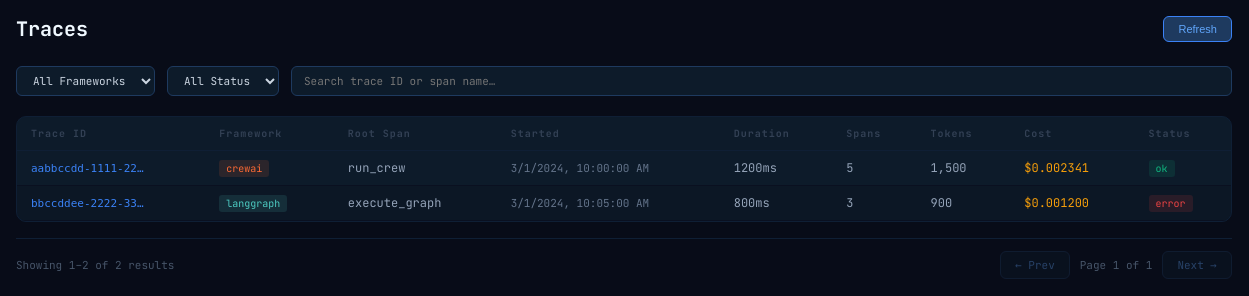
TracesPage › text search filters rows matching on root_span_name
Type "run_crew" into the field with placeholder "Search trace ID or span name…" at coordinates (762, 81), box [291,66,1232,96]
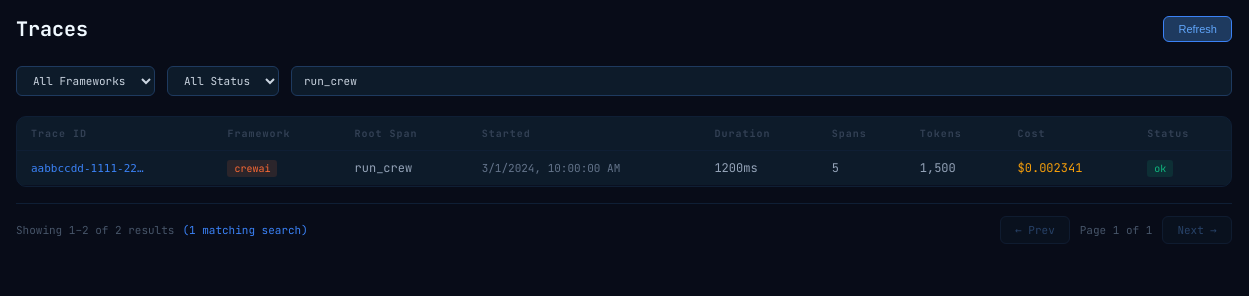
Check: the text "run_crew" is shown, box [340,150,468,186]
Check: the text "execute_graph" is gone
